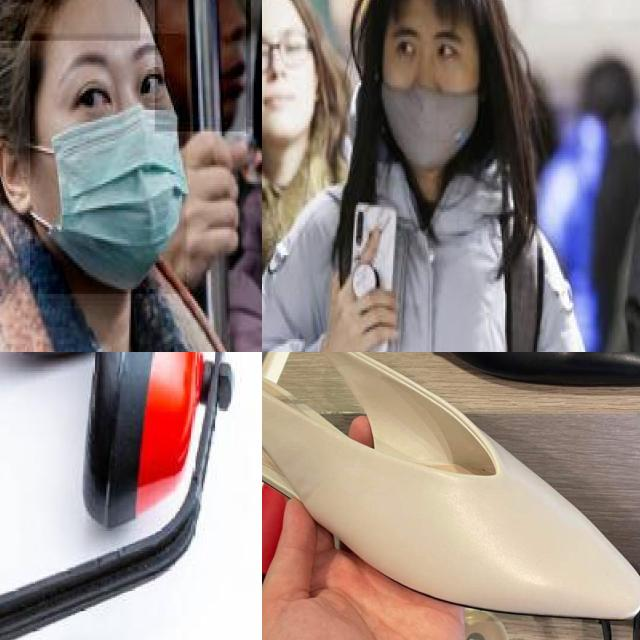Ear-protection: (0, 352, 241, 609)
No_Ear-Protection: (0, 129, 37, 222)
No_Glasses: (44, 31, 180, 128)
Sandals: (262, 352, 640, 640)
face_mask: (30, 33, 187, 294), (377, 25, 481, 169)
face_nomask: (155, 0, 251, 133), (262, 22, 314, 142)
glasses: (262, 26, 315, 78)
hand_noglove: (172, 117, 250, 275), (327, 221, 402, 352)
head_nohelmet: (0, 0, 142, 43), (386, 0, 476, 22), (262, 0, 306, 32)
person: (298, 0, 594, 352), (0, 0, 262, 352), (262, 0, 349, 352)
